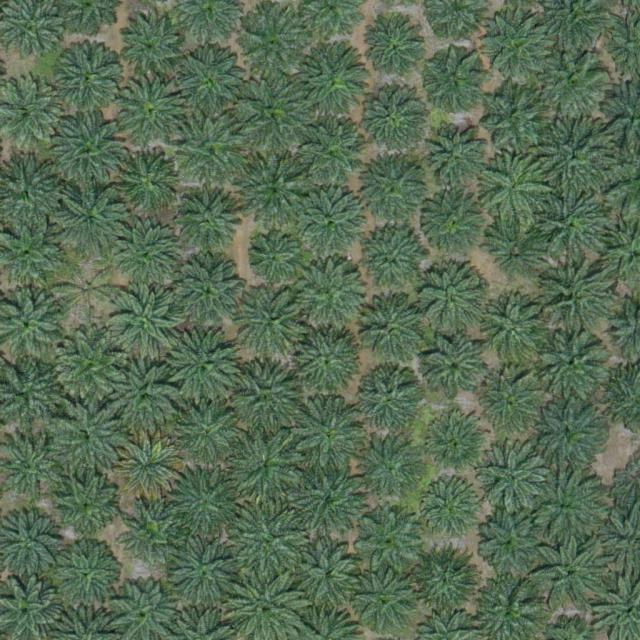Healthy: (536, 120, 614, 199), (291, 118, 369, 197), (237, 154, 315, 233), (526, 470, 604, 549), (532, 530, 610, 609), (227, 429, 305, 508), (231, 504, 309, 583), (532, 258, 610, 336), (296, 328, 367, 399), (237, 286, 308, 357), (291, 400, 362, 471), (295, 465, 366, 536), (174, 257, 245, 328), (52, 404, 123, 475), (484, 11, 554, 82), (237, 10, 308, 80), (295, 45, 365, 116), (120, 13, 191, 83), (538, 189, 608, 260), (540, 330, 610, 401), (482, 85, 552, 156), (419, 192, 490, 262), (416, 268, 487, 338), (358, 85, 428, 156), (359, 156, 429, 227), (356, 297, 426, 368), (295, 259, 365, 330), (534, 395, 604, 466), (411, 544, 481, 615), (352, 504, 422, 575), (348, 565, 418, 636), (294, 540, 365, 610), (229, 364, 299, 435), (168, 536, 238, 607), (55, 114, 125, 185), (55, 330, 125, 401), (109, 361, 179, 432), (114, 225, 184, 296), (115, 76, 185, 147), (176, 113, 247, 183), (177, 45, 247, 115), (54, 42, 124, 112), (537, 49, 607, 119), (480, 299, 550, 369), (357, 230, 427, 300), (296, 190, 366, 260), (238, 79, 308, 149), (477, 443, 547, 513), (167, 330, 237, 400), (174, 399, 244, 469), (168, 467, 238, 537), (56, 184, 126, 254), (110, 285, 180, 355), (50, 470, 120, 540), (487, 218, 550, 281), (422, 334, 485, 397), (360, 437, 423, 500), (367, 20, 429, 83), (484, 159, 546, 222), (480, 372, 542, 435), (421, 53, 483, 116), (428, 126, 490, 189), (482, 510, 544, 573), (422, 413, 485, 475), (56, 545, 118, 608), (357, 368, 419, 430), (420, 480, 482, 542), (116, 152, 178, 214), (178, 188, 240, 250), (125, 505, 179, 561), (249, 235, 296, 283)
Yellow: (114, 434, 184, 504), (57, 260, 119, 323)
